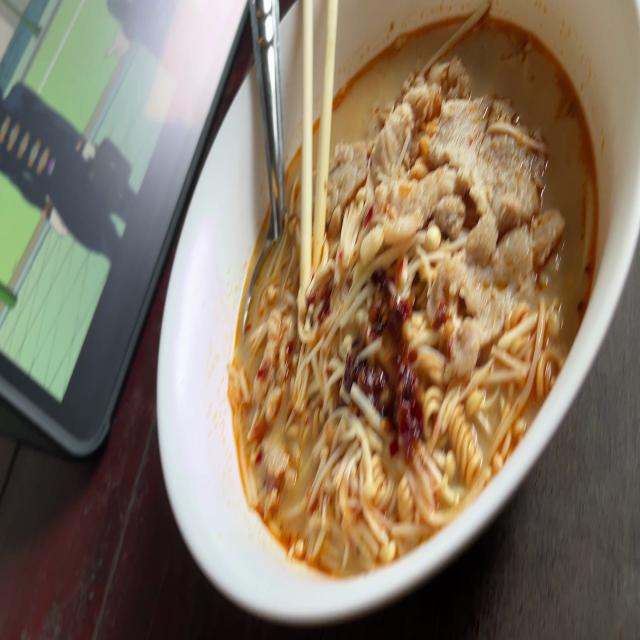noodle: (238, 0, 610, 603)
